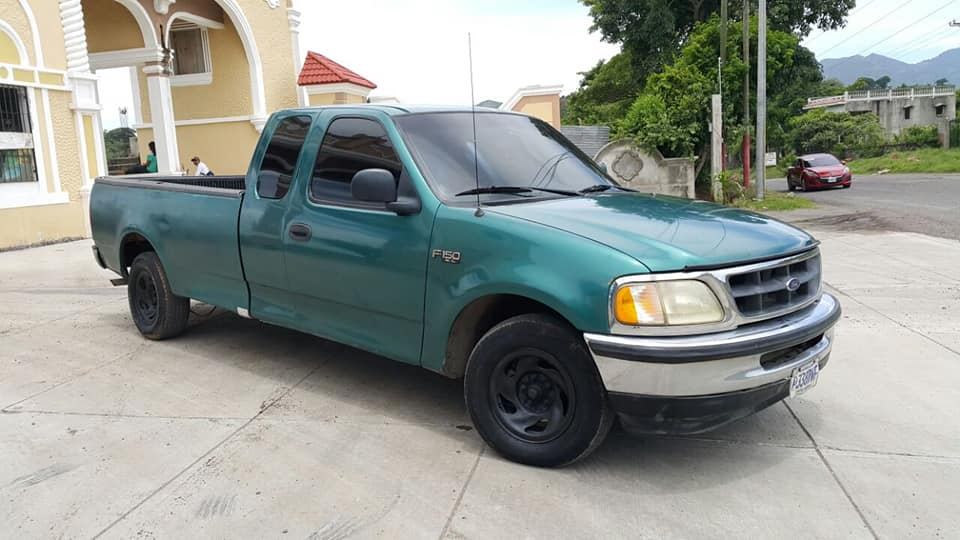pickup: (90, 102, 840, 467)
